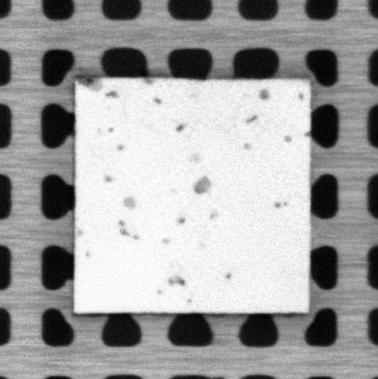DIE_INK: (117, 219, 140, 241), (78, 77, 106, 94), (191, 175, 212, 194), (120, 194, 136, 210), (166, 274, 186, 286), (256, 85, 270, 102), (101, 88, 121, 99), (206, 206, 220, 219), (295, 88, 306, 104), (279, 132, 293, 144), (102, 173, 118, 183), (273, 199, 290, 208), (160, 234, 172, 246), (175, 214, 188, 225), (245, 112, 257, 123), (221, 271, 235, 280), (74, 225, 83, 238), (150, 94, 162, 103), (104, 125, 116, 134), (183, 295, 194, 304), (117, 140, 125, 152), (175, 122, 184, 132), (153, 288, 165, 295), (242, 142, 252, 149), (83, 249, 90, 258)
